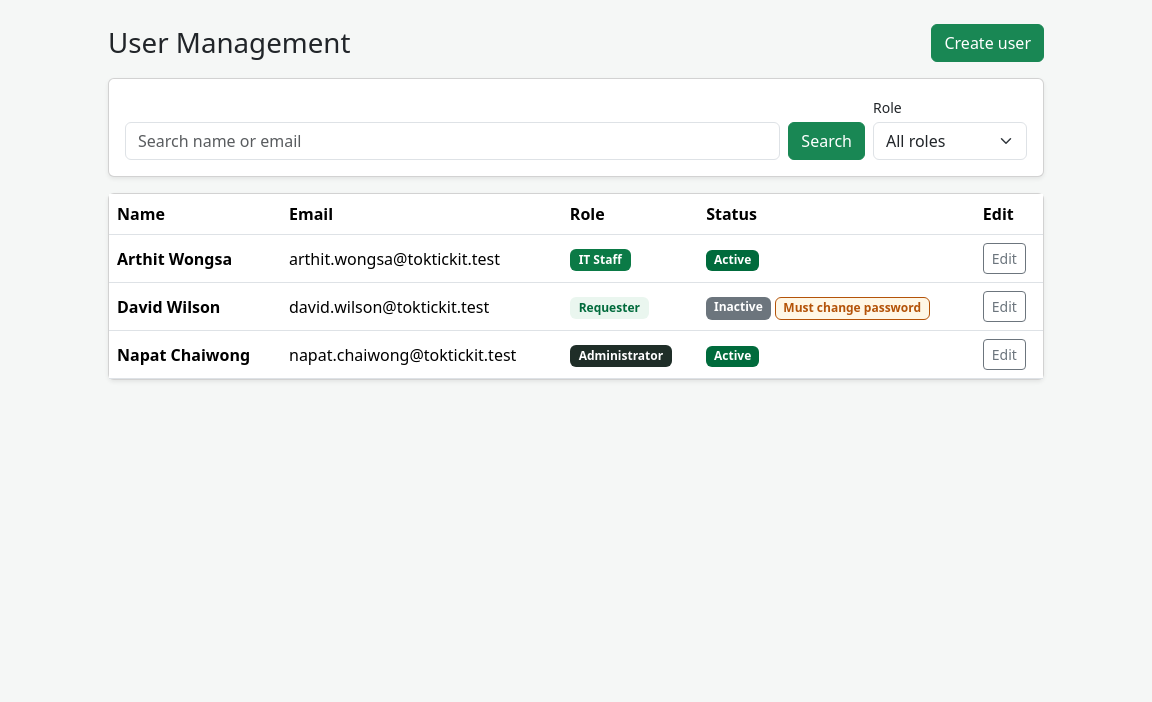
it: UI-28 editing my own account › disables Active and Role and explains why
The width and height of the screenshot is (1152, 702).
Step 1. Click the button with aria-label "Edit Napat Chaiwong" → click(1004, 354), box [983,339,1026,370]
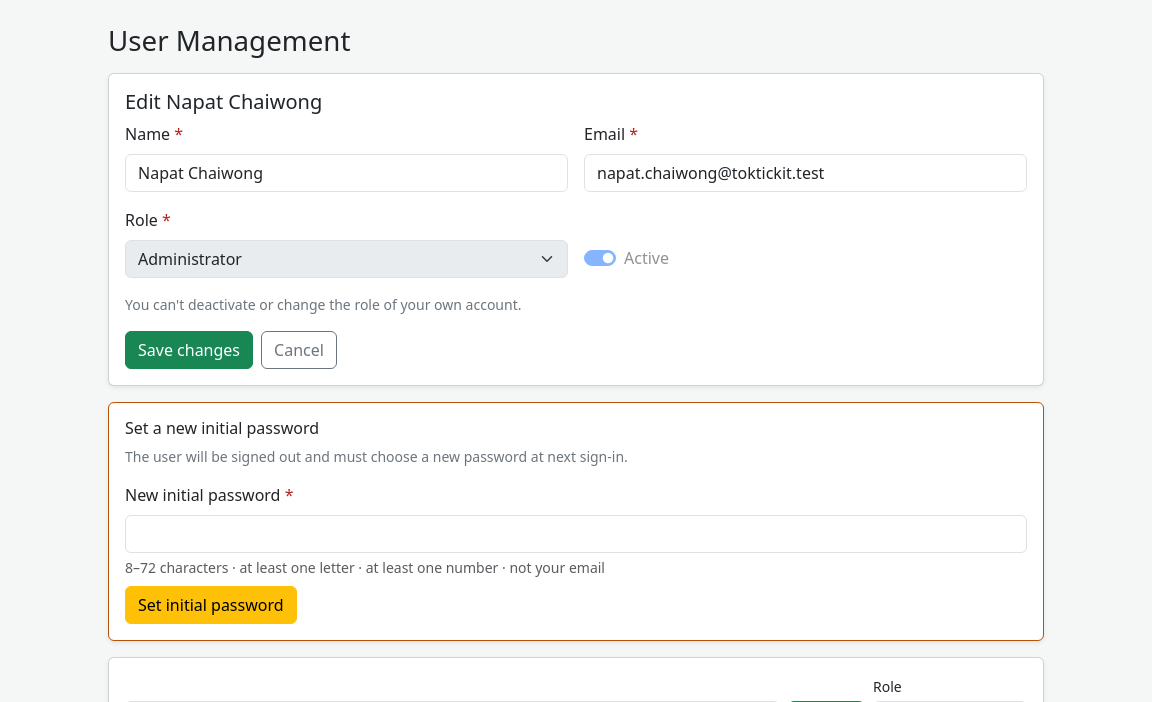
Expected: the dropdown labelled "Role *" is disabled, [125,240,568,278]
Expected: the switch labelled "Active" is disabled, [584,250,616,266]
Expected: the text "You can't deactivate or change the role of your own account." is shown, [125,295,522,314]
